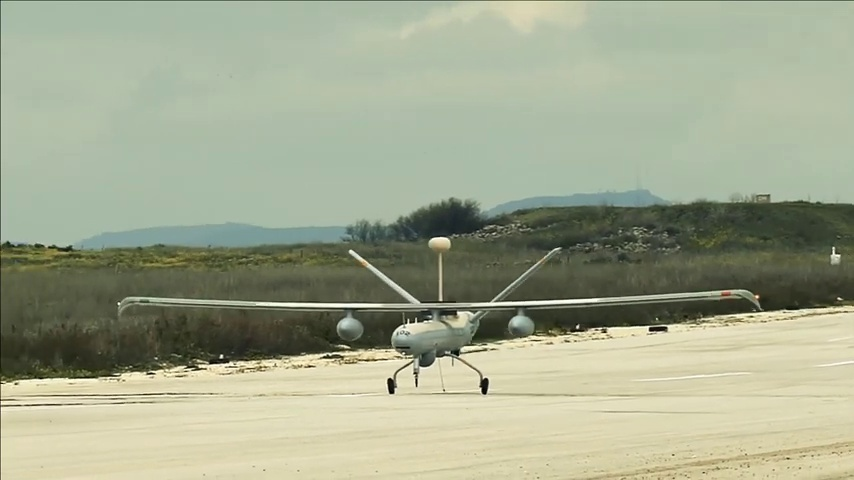military drone: (116, 236, 761, 395)
